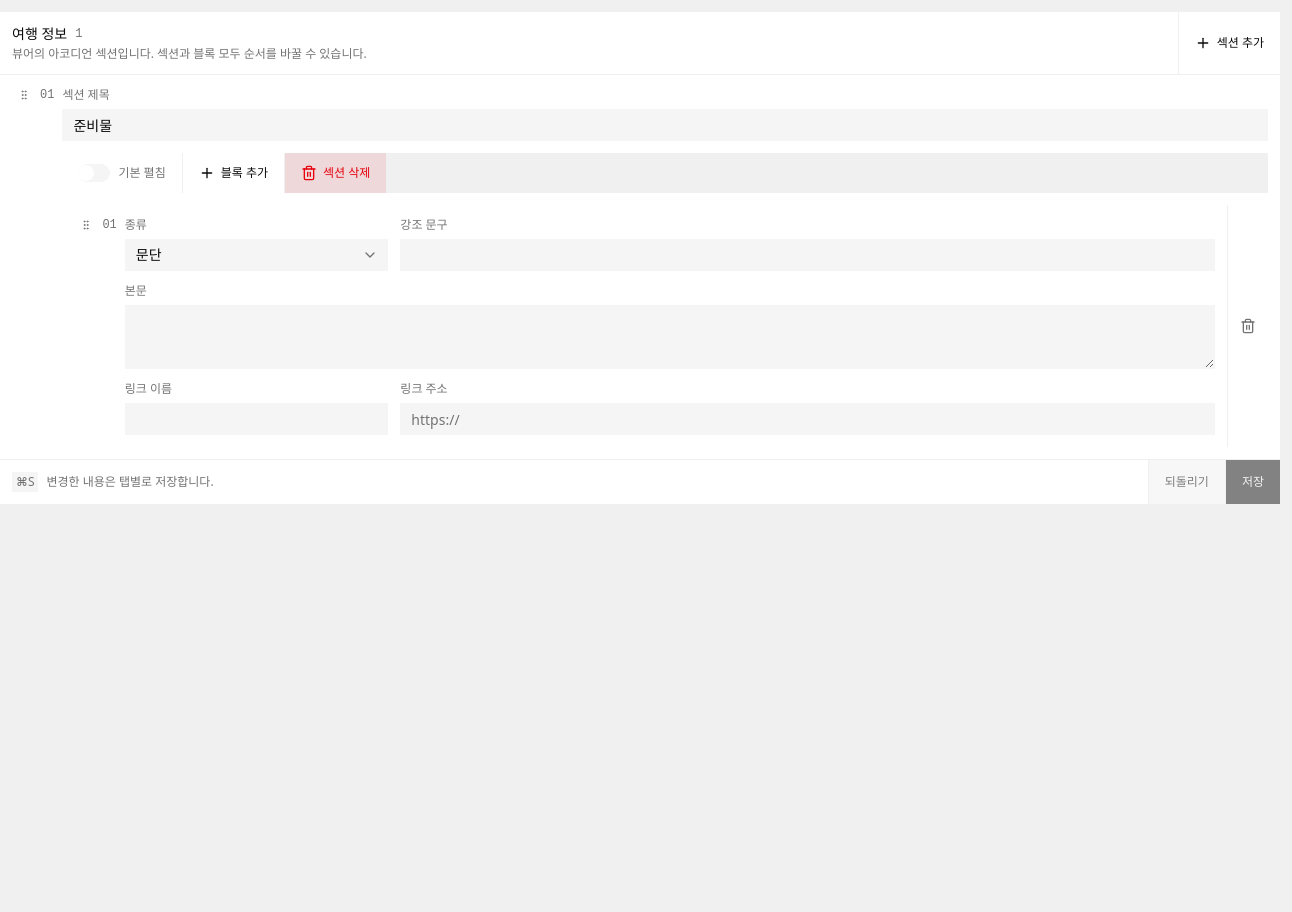
Test case: InfoSectionsForm › 블록을 더하고 지운다
Click the button "블록 추가". click: (233, 173)
box: [183,153,284,193]
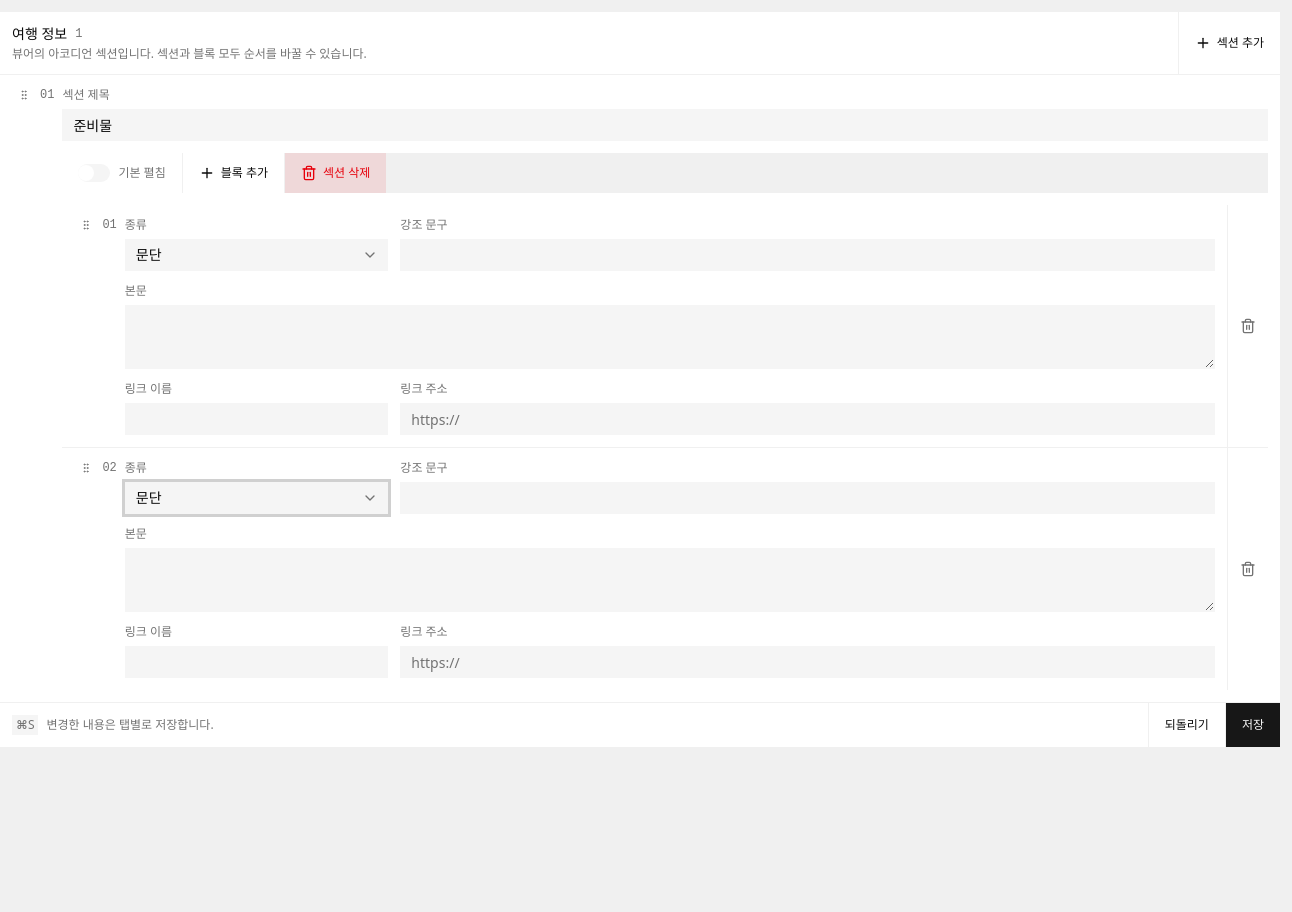
Expected: the number of buttons named "블록 삭제" is 2
Click the 1st button named "블록 삭제". click: (1248, 326)
box: [1228,205,1268,447]
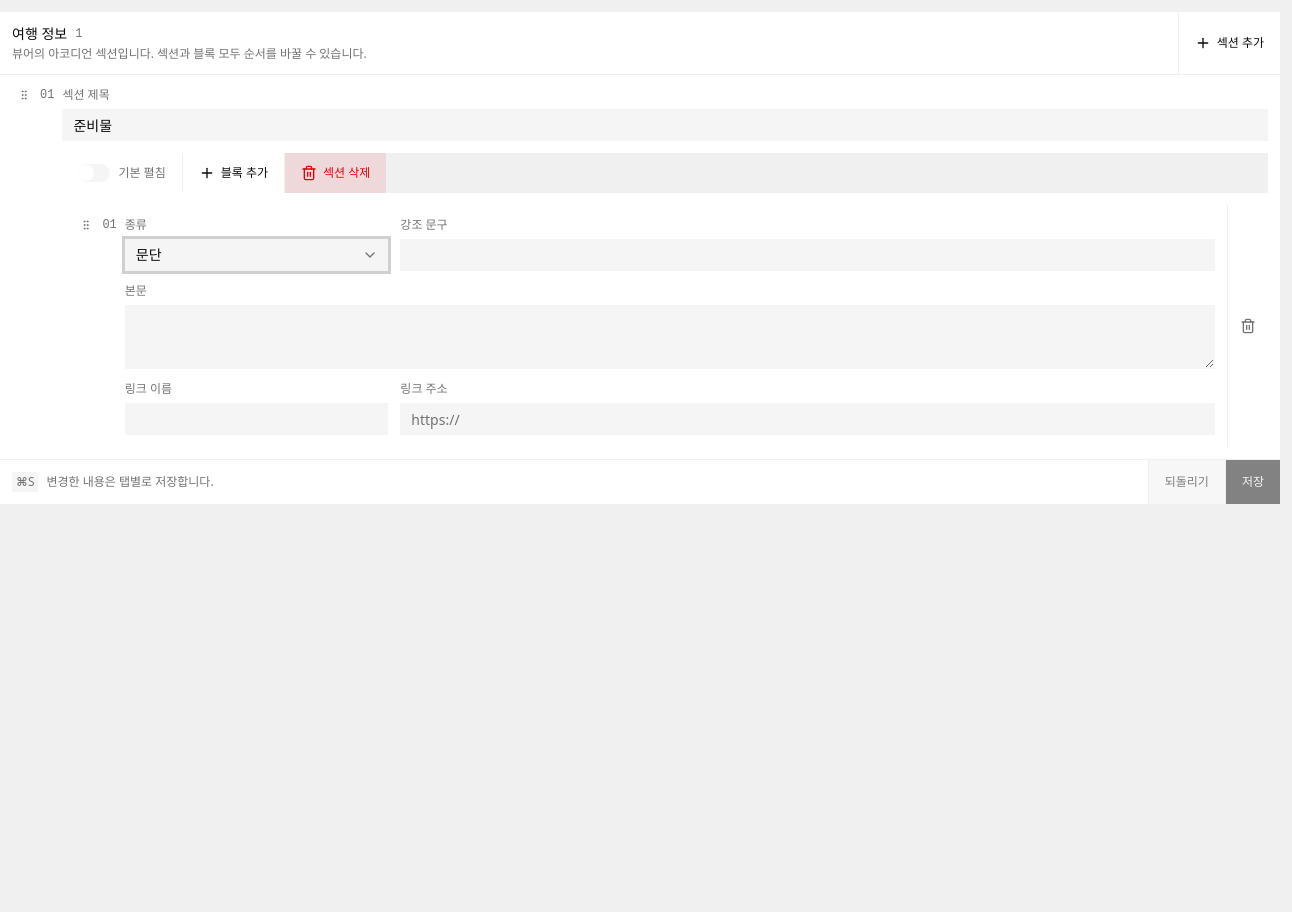
Expected: the number of buttons named "블록 삭제" is 1, [1228,205,1268,447]
